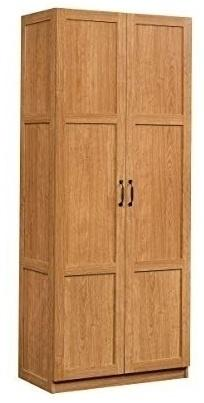cabinet_door: (56, 9, 126, 374), (125, 11, 185, 369)
handle: (128, 177, 134, 211), (119, 177, 124, 211)
